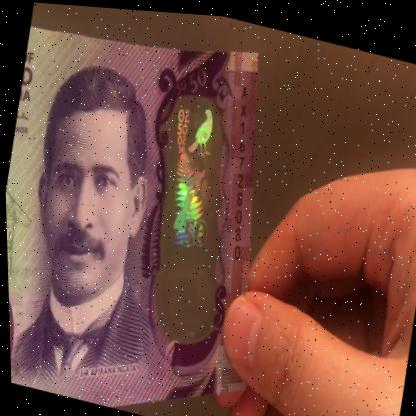50F: (135, 89, 243, 333)
